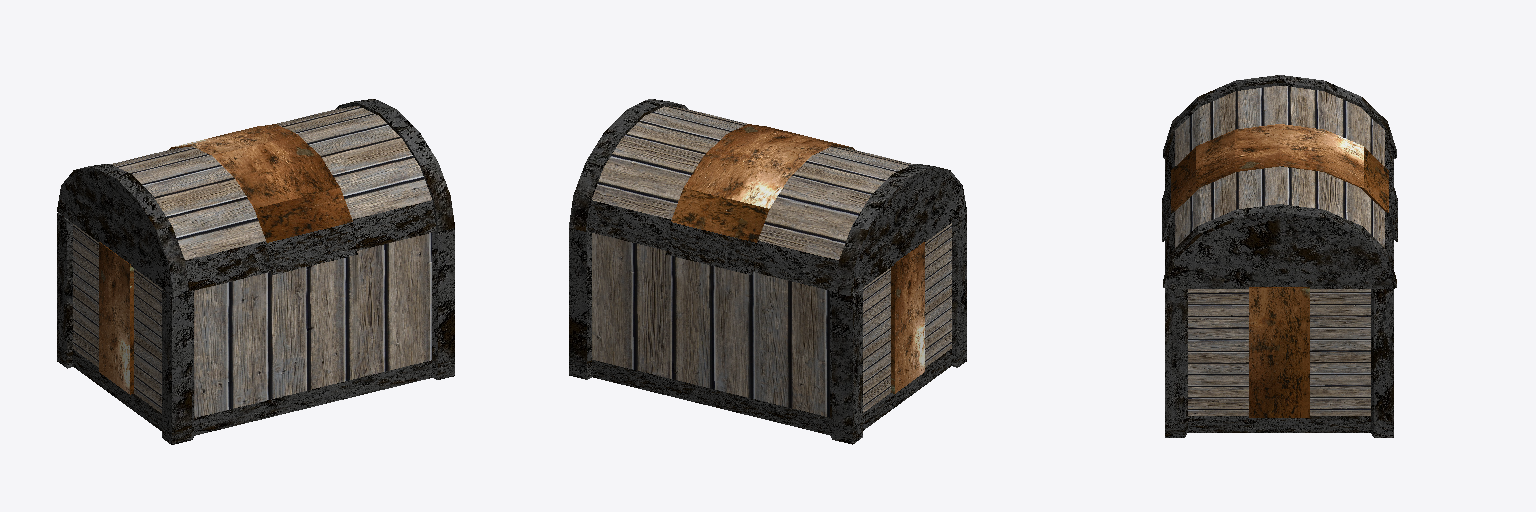
3 views of the same model, side by side, from view 1: azimuth 30°, elevation 25°; view 2: azimuth 150°, elevation 25°; view 3: azimuth 270°, elevation 25° (orthographic).
Size of the model in its own units: 4.12 by 3.12 by 2.98.
8 materials, 3 textured.